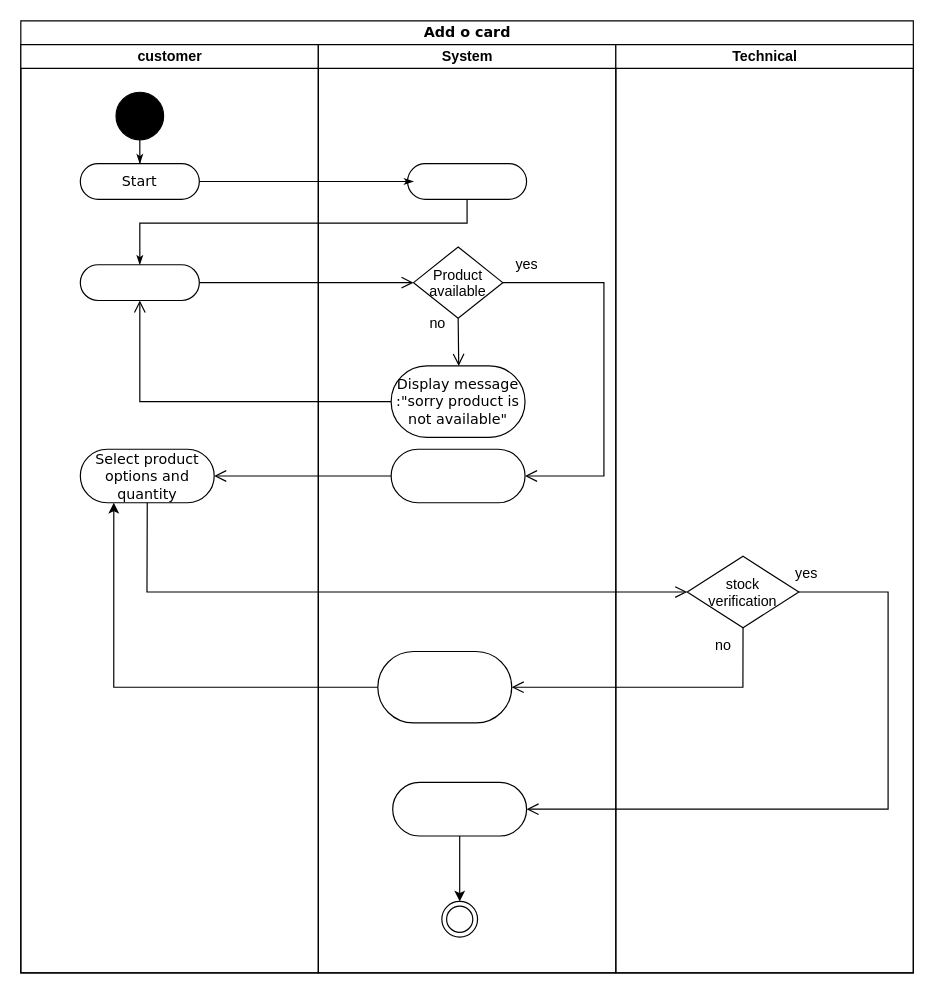
This 934x994 diagram has some shape labels left out. Here are the shapes that lost their labels. From the top down, the centre of each, then its label:
(466,180): Show all products
(139,282): Search for a product
(457,475): Display available products
(444,686): Display message :"sorry product is out of stock"
(459,808): Add product to cart
